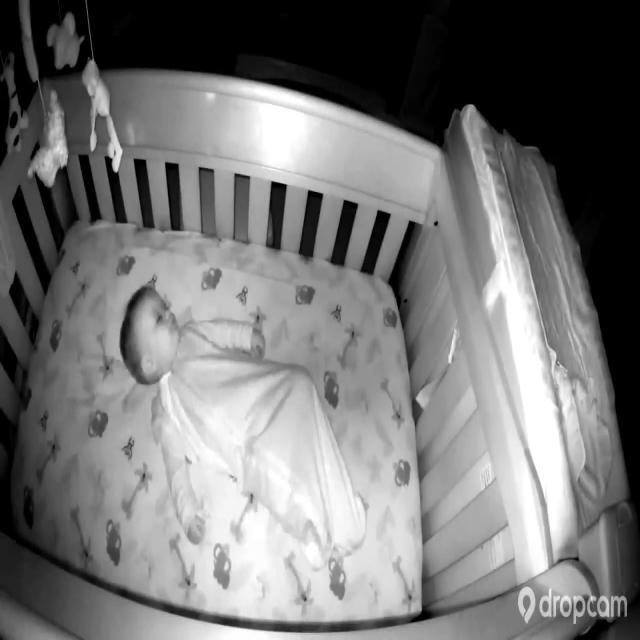baby: (114, 283, 369, 571)
